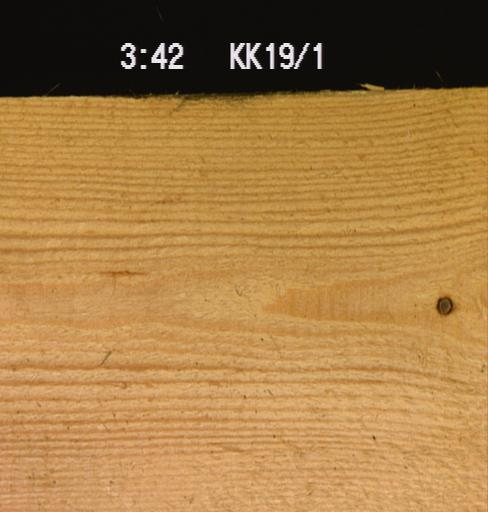dry_knot: (434, 294, 454, 317)
